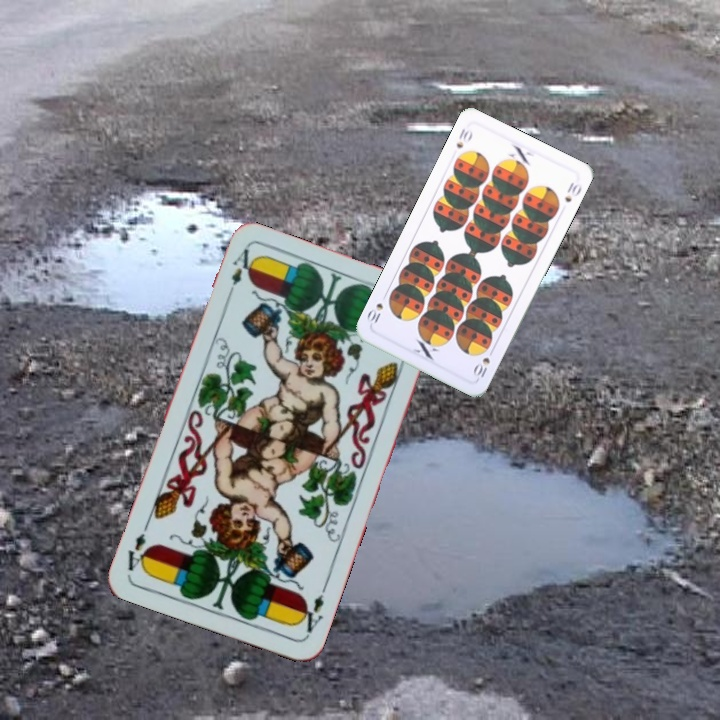EA: (222, 245, 256, 302), (294, 590, 327, 638)
S10: (470, 353, 493, 380), (452, 124, 475, 151)
